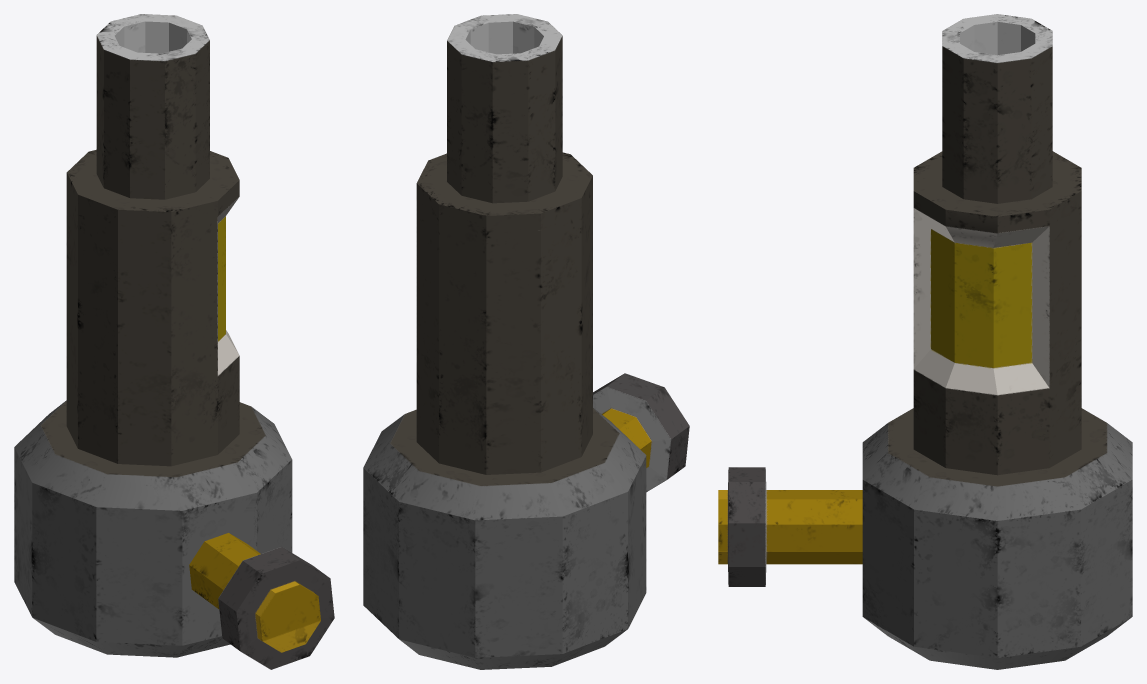
The model's file is Machine_Déco_6.fbx.
The picture shows the model from 3 angles, left to right: view 1: azimuth 30°, elevation 25°; view 2: azimuth 150°, elevation 25°; view 3: azimuth 270°, elevation 25°; orthographic projection.
Visible parts, largest first — view 1: polySurface80; view 2: polySurface80; view 3: polySurface80.
Boxes of the visible parts, <box> form: polySurface80: <box>14,14,334,669</box>; polySurface80: <box>363,14,689,669</box>; polySurface80: <box>718,14,1132,669</box>.
Bounding box in the file's own units: 3.21 × 7.28 × 4.69.
